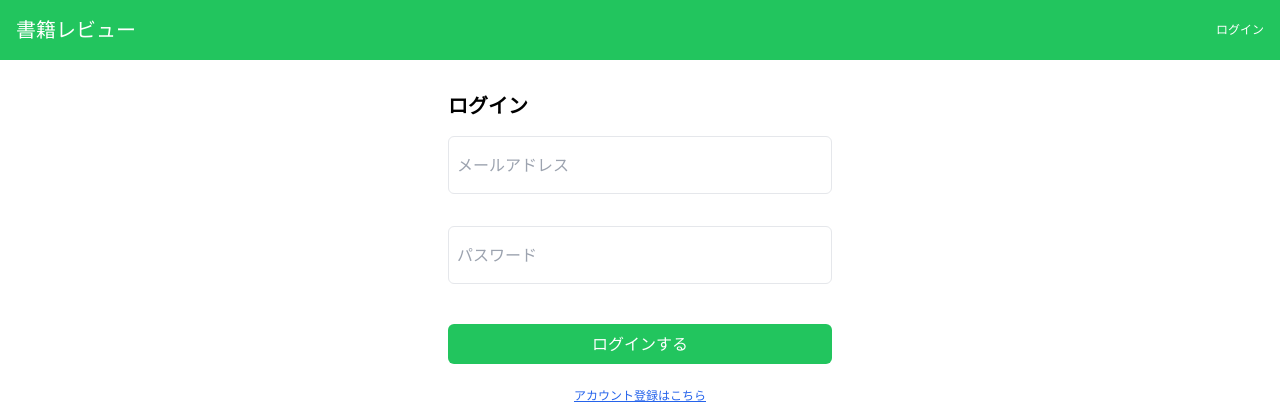
Test: ログインフォーム › passwordは4文字以上
Type "one" into the field named "password" at [640, 255], box 448,226 -> 832,284
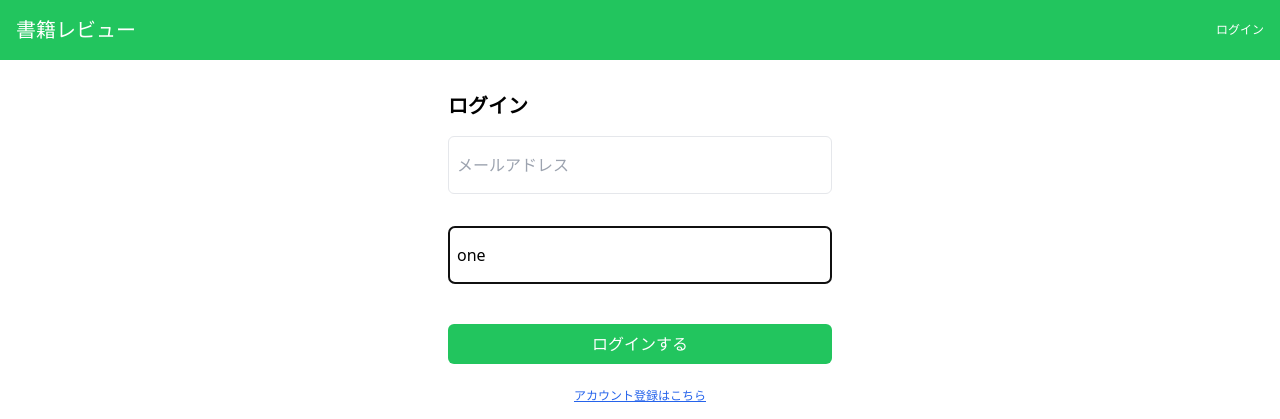
Click the submit button at [640, 344], box 448,324 -> 832,364
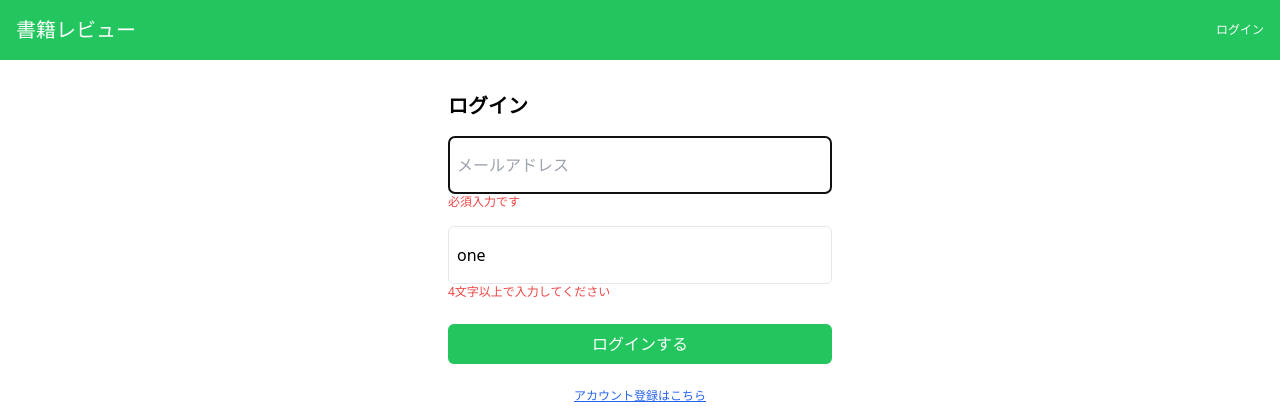
Expected: the text "4文字以上で入力してください" is shown, 448,283 -> 610,300
